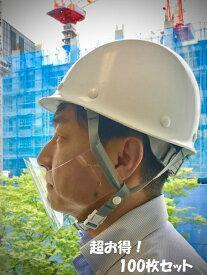helmet: (37, 38, 202, 152)
